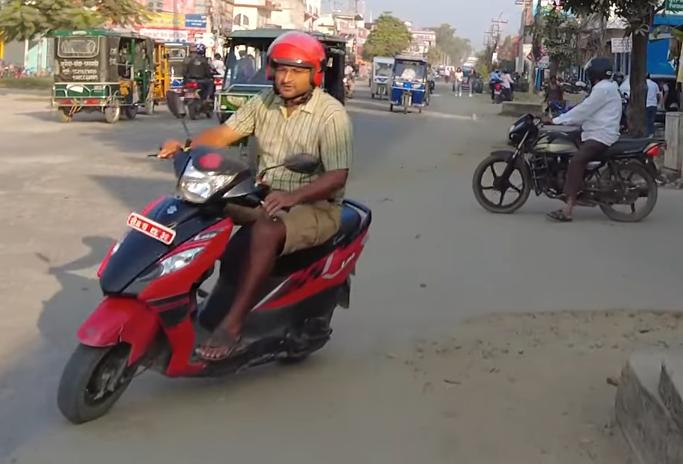bike: (471, 110, 665, 229)
e-rickshaw: (51, 24, 161, 128), (388, 51, 430, 117)
scooter: (49, 120, 391, 423)
